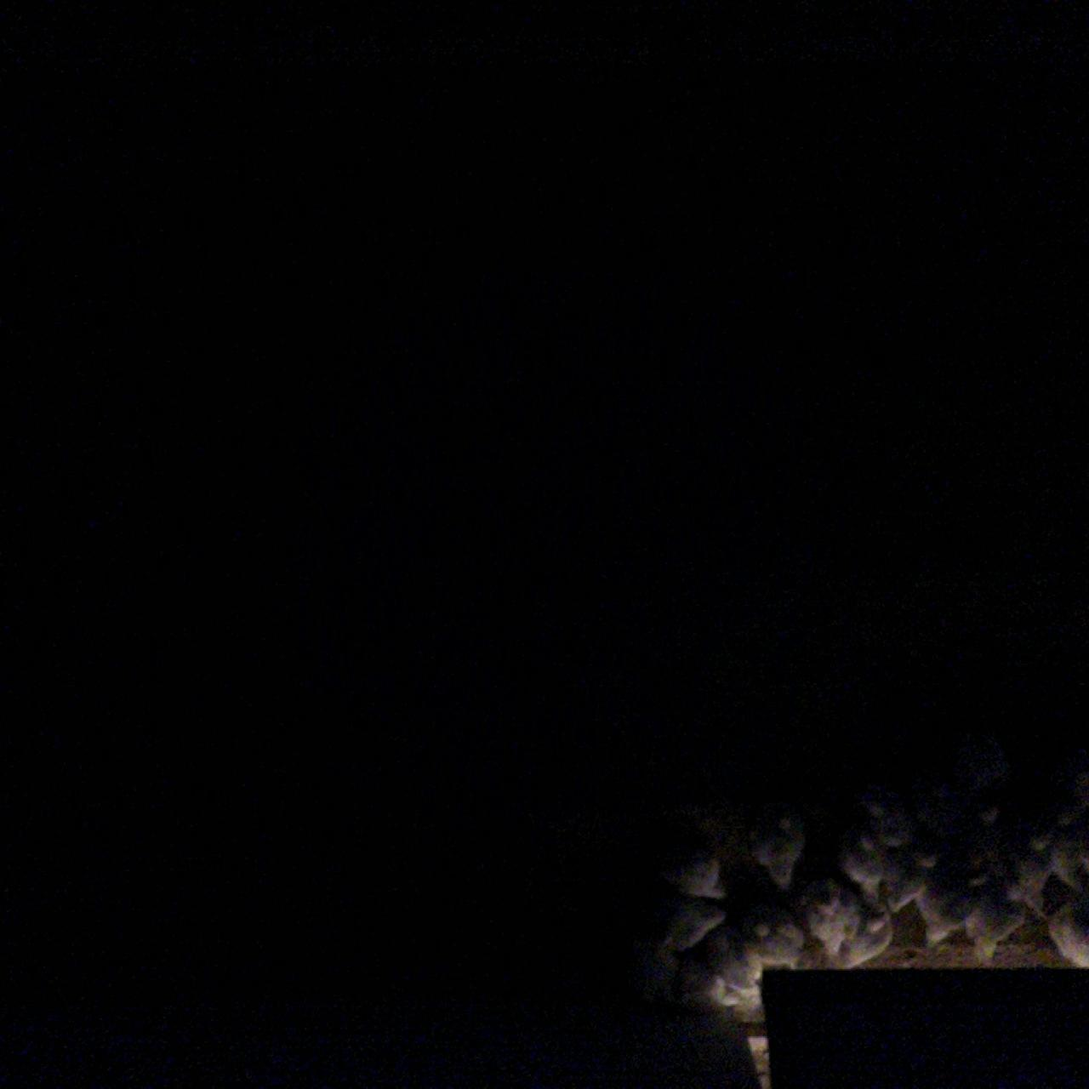chicken: (744, 795, 807, 893), (730, 903, 817, 969), (914, 870, 975, 956), (795, 874, 850, 968), (661, 837, 736, 902), (967, 886, 1027, 965), (831, 824, 888, 903), (841, 891, 897, 967), (656, 897, 729, 955), (997, 839, 1053, 913), (1041, 895, 1089, 972), (1048, 819, 1089, 897), (880, 852, 929, 915), (862, 797, 918, 849), (695, 971, 763, 1013), (706, 938, 762, 986)
